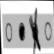correct: (19, 22, 25, 42)
not correct: (29, 8, 42, 54)
